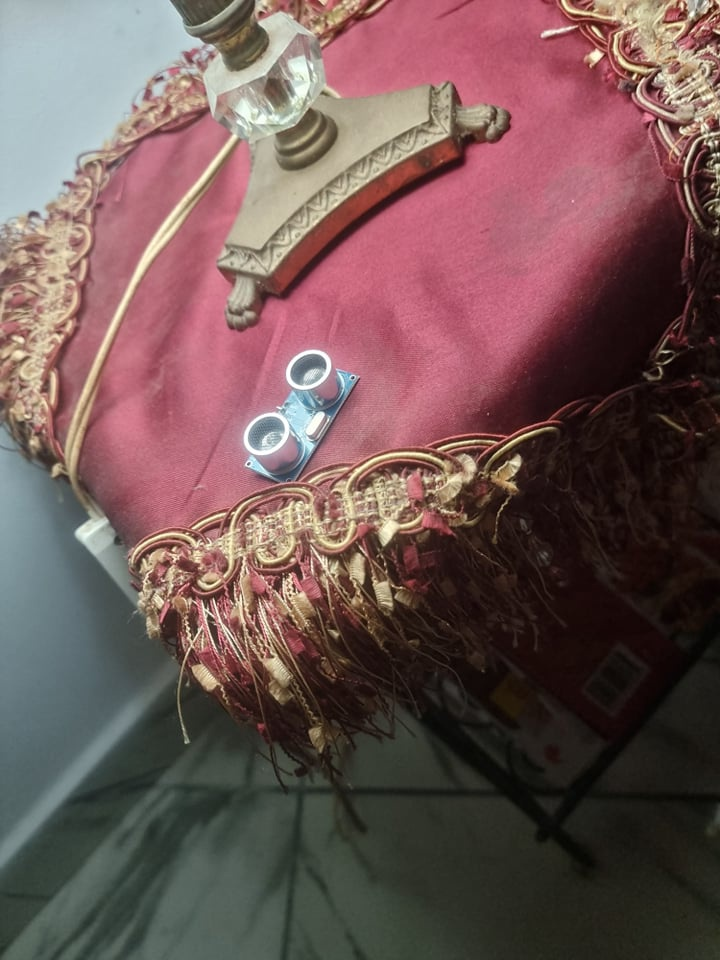SENSOR: (241, 347, 361, 486)
